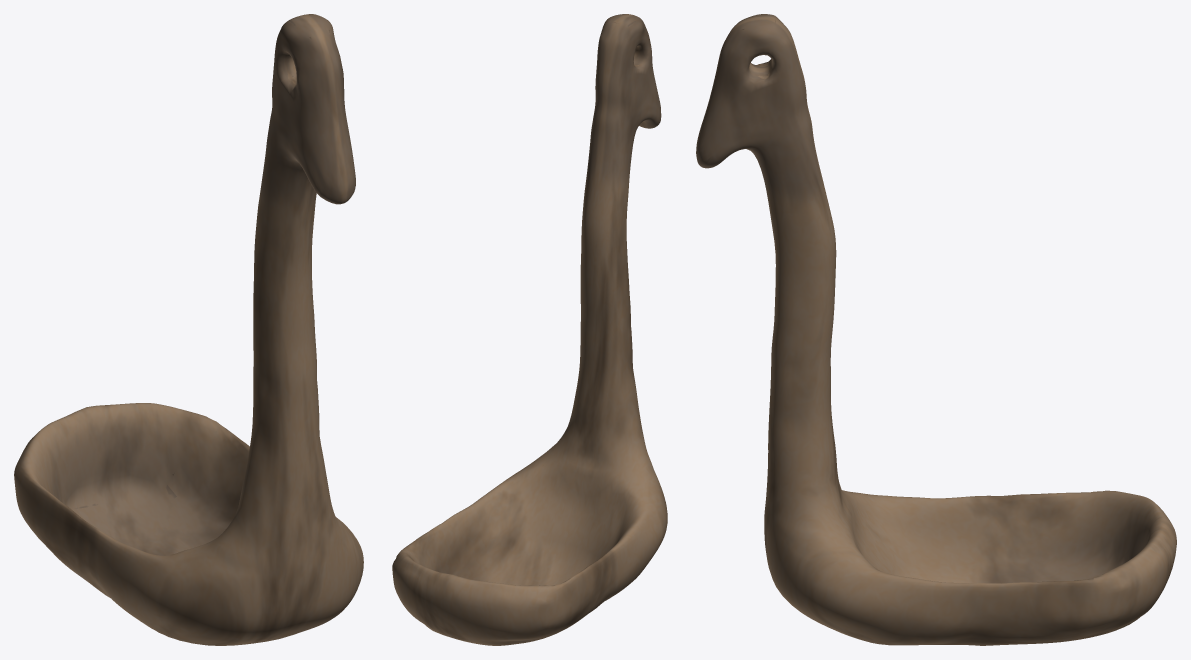
The model's file is Kauha.fbx.
3 views of the same model, side by side, from view 1: azimuth 30°, elevation 25°; view 2: azimuth 150°, elevation 25°; view 3: azimuth 270°, elevation 25° (orthographic). The views are drawn at different scales.
Visible parts, largest first — view 1: Mball.005; view 2: Mball.005; view 3: Mball.005.
Part boxes in pixels (<box>): Mball.005: <box>14,14,363,645</box>; Mball.005: <box>392,14,667,645</box>; Mball.005: <box>696,14,1176,645</box>.
Bounding box in the file's own units: 325 × 997 × 712.
1 material, 1 textured.
